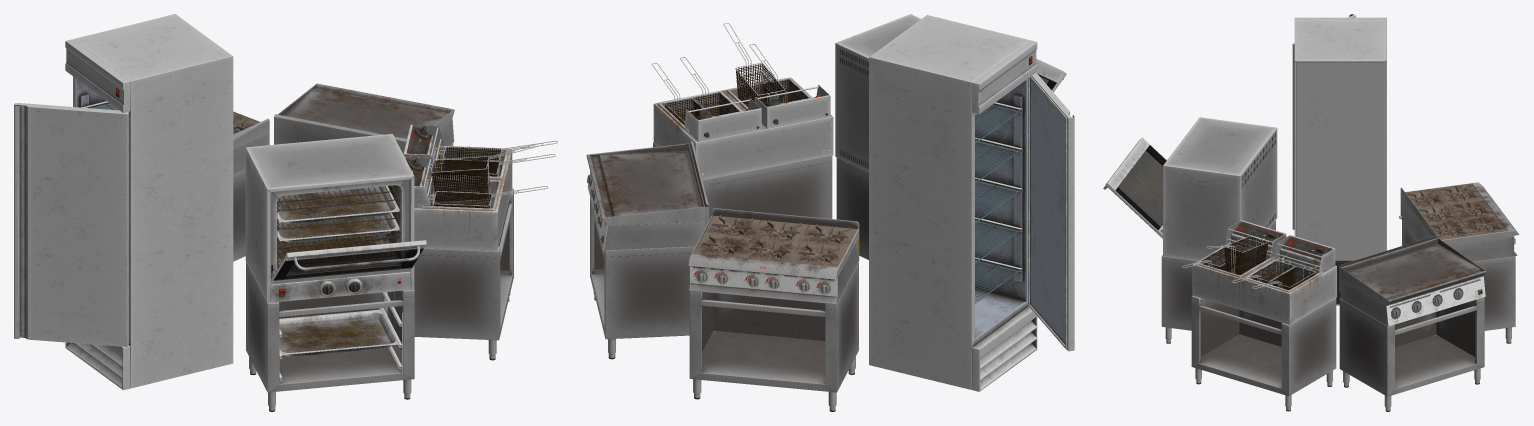
File: kitchenprops.glb
The picture shows the model from 3 angles, left to right: view 1: azimuth 30°, elevation 25°; view 2: azimuth 150°, elevation 25°; view 3: azimuth 270°, elevation 25°; orthographic projection. The views are drawn at different scales.
Parts seen in each view (by area): view 1: ComFridge, ComFridgeDoor_DinerFridge_0, ComOven, Diner_CookBase001, Diner_CookBase, GasGriddle, ComFryerBase, ComOvenAccA002, ComOvenAccA001, ComOvenDoor_DinerOvenFryer1_0, ComOvenDoor_DinerOvenFryer2_0, ComOvenAccA (+8 smaller); view 2: ComFridge, Diner_CookBase002, GasPlate, ComFridgeDoor_DinerFridge_0, GasGriddle, Diner_CookBase003, ComFryerBase, Diner_CookBase, ComOven, ComFryerTop_DinerOvenFryer1_0, Diner_CookBase001, ComFryerBasket001_DinerOvenFryer3_0 (+9 smaller); view 3: ComFridge, ComOven, Diner_CookBase, Diner_CookBase003, GasGriddle, ComFryerBase, GasPlate, Diner_CookBase002, ComFryerTop_DinerOvenFryer1_0, ComOvenDoor_DinerOvenFryer2_0, Diner_CookBase001, ComOvenDoor_DinerOvenFryer1_0 (+5 smaller).
Part boxes in pixels (<box>): ComFridge: <box>65,14,233,390</box>; ComFridgeDoor_DinerFridge_0: <box>14,103,128,346</box>; ComOven: <box>245,134,414,302</box>; Diner_CookBase001: <box>246,262,414,411</box>; Diner_CookBase: <box>414,188,513,360</box>; GasGriddle: <box>274,83,454,154</box>; ComFryerBase: <box>414,145,512,251</box>; ComOvenAccA002: <box>279,309,398,356</box>; ComOvenAccA001: <box>277,186,399,223</box>; ComOvenDoor_DinerOvenFryer1_0: <box>270,240,426,284</box>; ComOvenDoor_DinerOvenFryer2_0: <box>273,248,423,280</box>; ComOvenAccA: <box>277,213,399,242</box>; ComFridge: <box>869,15,1037,391</box>; Diner_CookBase002: <box>689,262,858,411</box>; GasPlate: <box>688,208,859,304</box>; ComFridgeDoor_DinerFridge_0: <box>1027,72,1074,351</box>; GasGriddle: <box>586,141,708,250</box>; Diner_CookBase003: <box>590,197,694,359</box>; ComFryerBase: <box>653,77,833,180</box>; Diner_CookBase: <box>653,142,832,219</box>; ComOven: <box>835,14,920,171</box>; ComFryerTop_DinerOvenFryer1_0: <box>684,85,830,141</box>; Diner_CookBase001: <box>836,157,868,259</box>; ComFryerBasket001_DinerOvenFryer3_0: <box>736,64,784,106</box>; ComFridge: <box>1294,17,1386,305</box>; ComOven: <box>1163,117,1277,260</box>; Diner_CookBase: <box>1191,295,1336,411</box>; Diner_CookBase003: <box>1339,297,1484,411</box>; GasGriddle: <box>1339,235,1485,326</box>; ComFryerBase: <box>1192,242,1336,324</box>; GasPlate: <box>1399,182,1519,261</box>; Diner_CookBase002: <box>1402,220,1515,343</box>; ComFryerTop_DinerOvenFryer1_0: <box>1225,220,1335,277</box>; ComOvenDoor_DinerOvenFryer2_0: <box>1113,145,1166,232</box>; Diner_CookBase001: <box>1161,220,1275,343</box>; ComOvenDoor_DinerOvenFryer1_0: <box>1103,137,1166,238</box>.
Size of the model in its own units: 355 by 216 by 332.
Materials: 6 (6 with a texture image).
